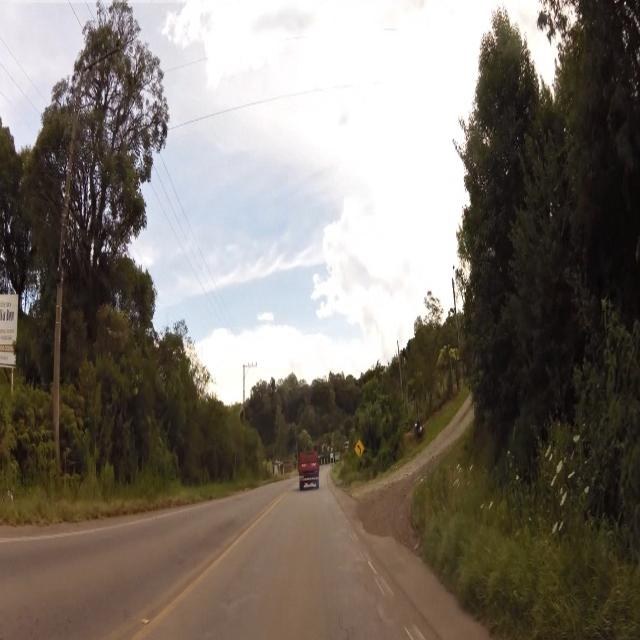A-2a: (354, 442, 364, 457)
